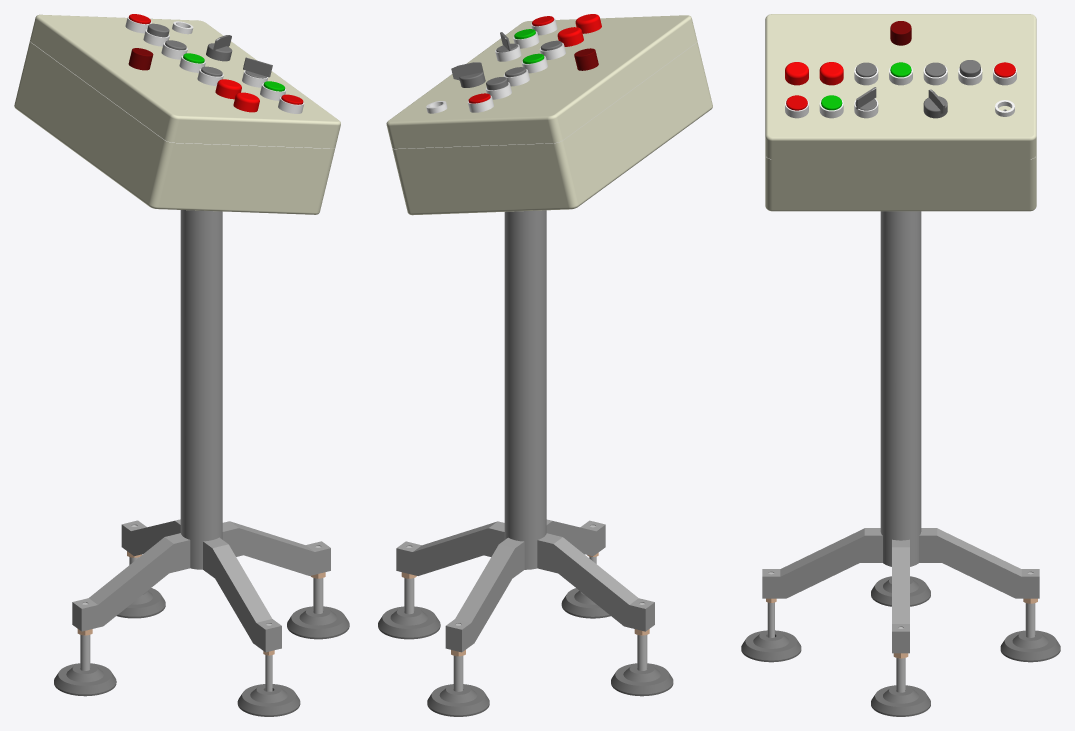
File: botoeira_sw.glb
3 renders of one model, left to right at view 1: azimuth 30°, elevation 25°; view 2: azimuth 150°, elevation 25°; view 3: azimuth 270°, elevation 25°, orthographic. The views are drawn at different scales.
Visible parts, largest first — view 1: COC-JUN-ENVL1-0-021-1, COC-JUN-ENVL1-0-020-1, COC-JUN-ENVL1-0-022-1, COC-JUN-ENVL1-0-022-2, COC-JUN-ENVL1-0-022-4, COC-JUN-ENVL1-0-022-3; view 2: COC-JUN-ENVL1-0-021-1, COC-JUN-ENVL1-0-020-1, COC-JUN-ENVL1-0-022-2, COC-JUN-ENVL1-0-022-4, COC-JUN-ENVL1-0-022-3, COC-JUN-ENVL1-0-022-1; view 3: COC-JUN-ENVL1-0-021-1, COC-JUN-ENVL1-0-020-1, COC-JUN-ENVL1-0-022-1, COC-JUN-ENVL1-0-022-2, COC-JUN-ENVL1-0-022-3, COC-JUN-ENVL1-0-022-4.
Part boxes in pixels (x1,y1,x2,y2): COC-JUN-ENVL1-0-021-1: [14, 14, 340, 214]; COC-JUN-ENVL1-0-020-1: [72, 210, 330, 652]; COC-JUN-ENVL1-0-022-1: [237, 684, 300, 716]; COC-JUN-ENVL1-0-022-2: [287, 606, 349, 639]; COC-JUN-ENVL1-0-022-4: [54, 663, 116, 696]; COC-JUN-ENVL1-0-022-3: [117, 588, 165, 618]; COC-JUN-ENVL1-0-021-1: [386, 14, 712, 215]; COC-JUN-ENVL1-0-020-1: [396, 210, 654, 652]; COC-JUN-ENVL1-0-022-2: [378, 606, 440, 639]; COC-JUN-ENVL1-0-022-4: [611, 663, 673, 696]; COC-JUN-ENVL1-0-022-3: [427, 684, 489, 716]; COC-JUN-ENVL1-0-022-1: [561, 588, 610, 618]; COC-JUN-ENVL1-0-021-1: [765, 14, 1036, 211]; COC-JUN-ENVL1-0-020-1: [762, 211, 1039, 653]; COC-JUN-ENVL1-0-022-1: [741, 630, 801, 662]; COC-JUN-ENVL1-0-022-2: [871, 685, 930, 716]; COC-JUN-ENVL1-0-022-3: [1000, 630, 1060, 662]; COC-JUN-ENVL1-0-022-4: [871, 576, 930, 606].
Size of the model in its own units: 0.53 by 1.09 by 0.5299.
